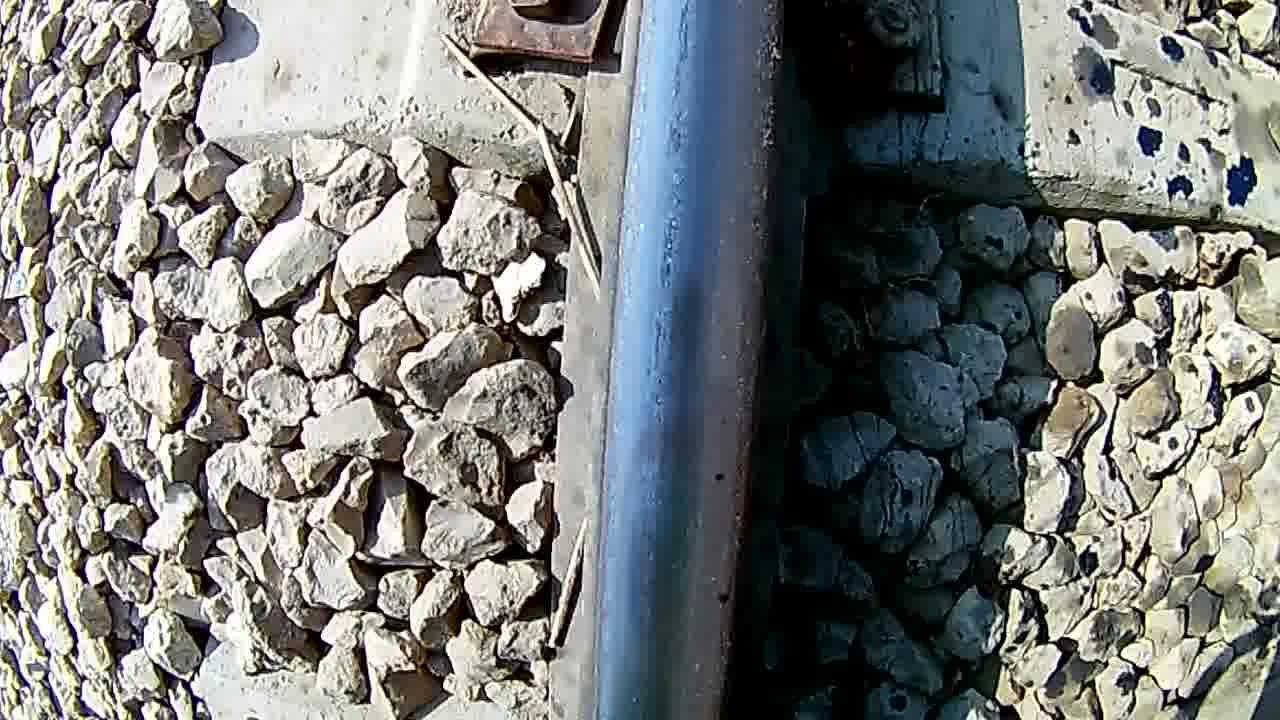crack: (606, 1, 786, 720)
